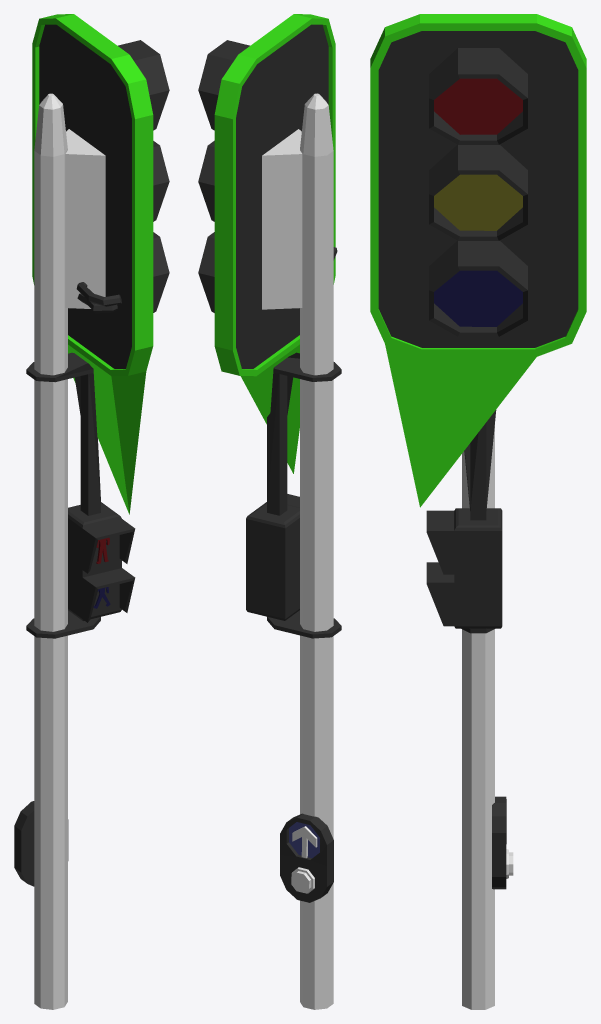
File: TrafficRight1.fbx
3 views of the same model, side by side, from view 1: azimuth 30°, elevation 25°; view 2: azimuth 150°, elevation 25°; view 3: azimuth 270°, elevation 25° (orthographic). The views are drawn at different scales.
Visible parts, largest first — view 1: TrafficLightRight.001; view 2: TrafficLightRight.001; view 3: TrafficLightRight.001.
Boxes of the visible parts, box(x1,y1,x2,y2) form: TrafficLightRight.001: box(14, 14, 169, 1009); TrafficLightRight.001: box(198, 14, 341, 1009); TrafficLightRight.001: box(370, 14, 586, 1009).
Bounding box in the file's own units: 58.75 × 437 × 85.16.
